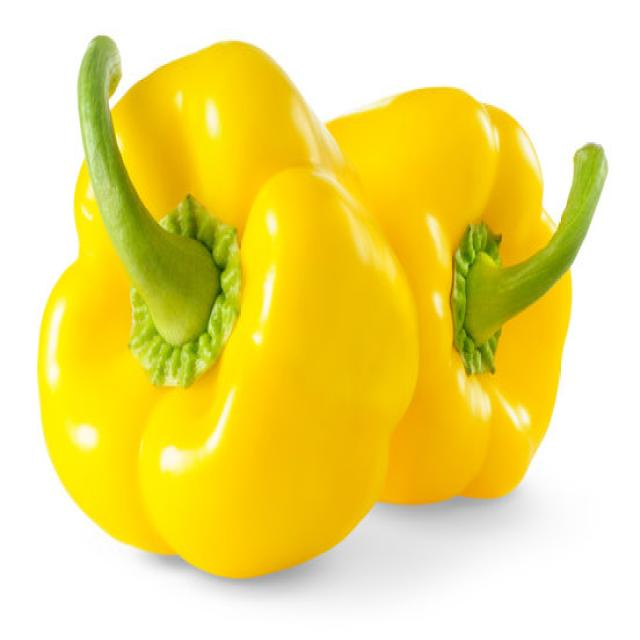Bell Pepper: (27, 31, 410, 577), (322, 84, 608, 503)
